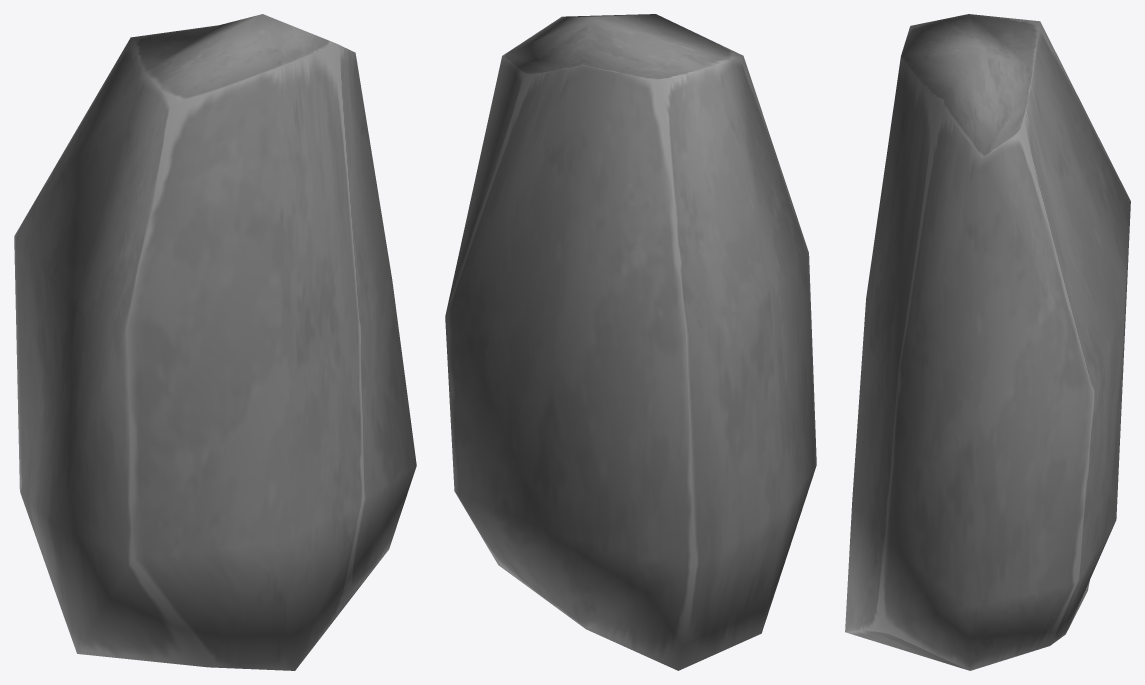
File: assets_rock3.fbx
3 renders of one model, left to right at view 1: azimuth 30°, elevation 25°; view 2: azimuth 150°, elevation 25°; view 3: azimuth 270°, elevation 25°, orthographic. The views are drawn at different scales.
Visible parts, largest first — view 1: assets_rock3; view 2: assets_rock3; view 3: assets_rock3.
Part boxes in pixels (bbox=[...]): assets_rock3: bbox=[14, 14, 416, 670]; assets_rock3: bbox=[445, 14, 816, 670]; assets_rock3: bbox=[845, 14, 1130, 670].
Bounding box in the file's own units: 3.37 × 5.54 × 2.35.
